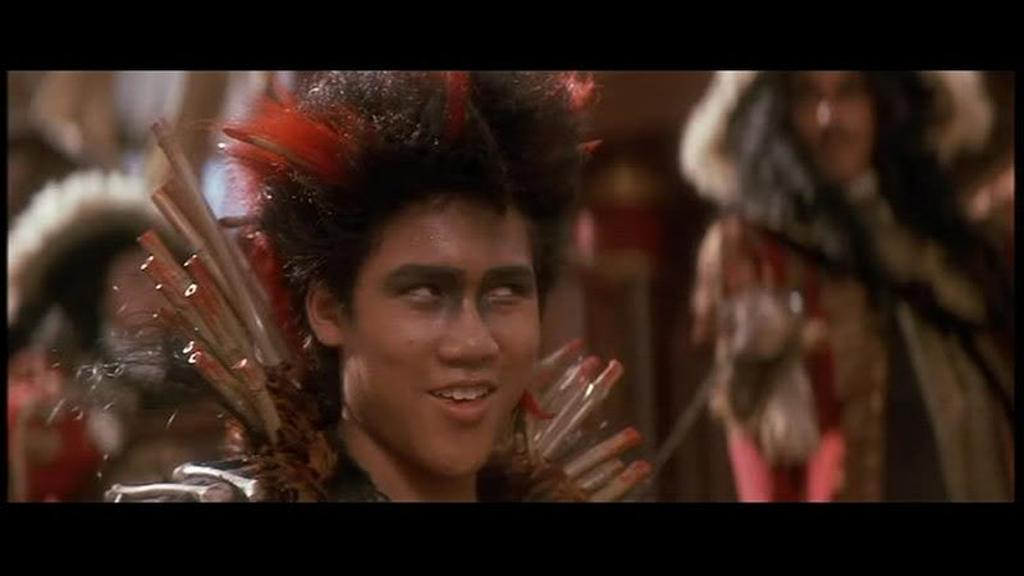face: (348, 202, 536, 478), (794, 68, 876, 180)
